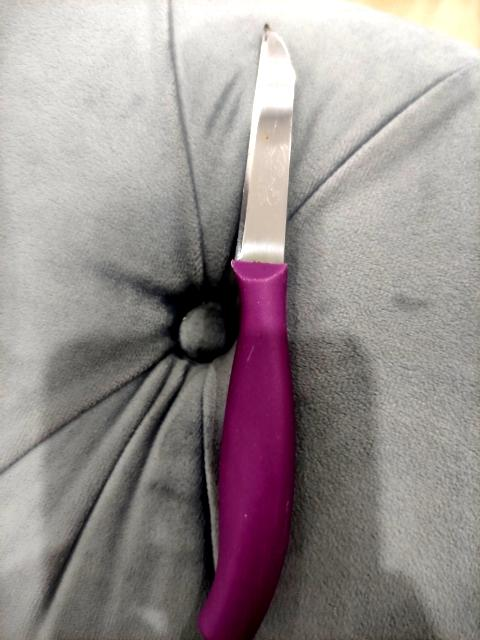Knife: (199, 27, 295, 639)
